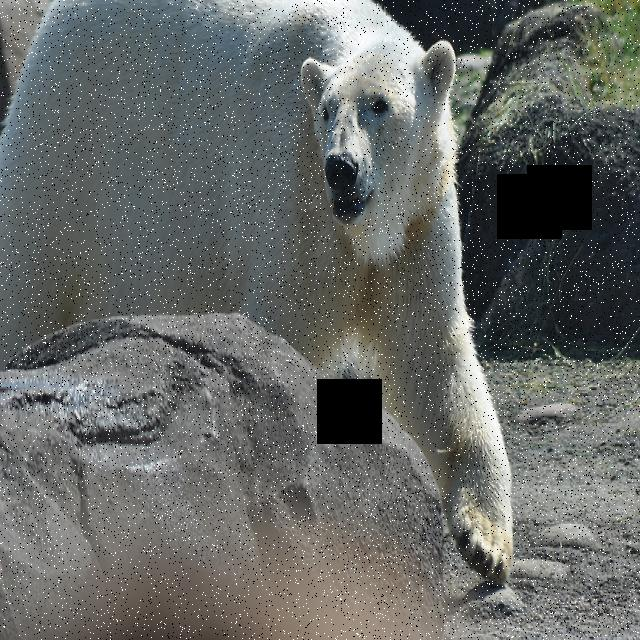Bear: (0, 0, 538, 547)
